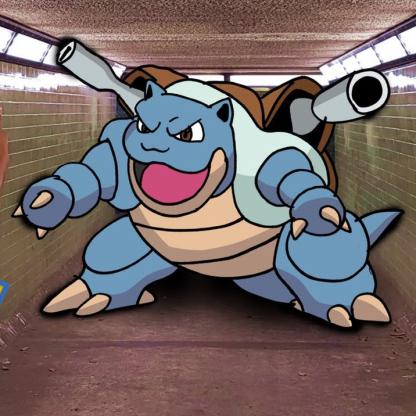Blastoise: (29, 30, 404, 342)
